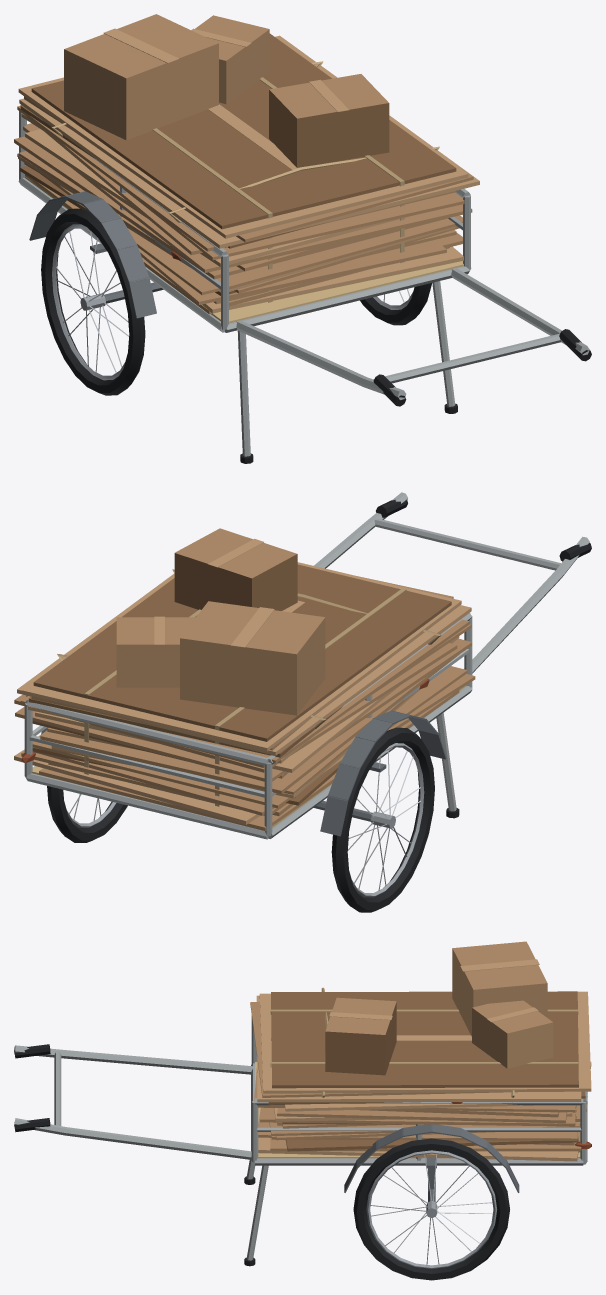
Rendered from SC_Home_Scrap_Handcart.gltf.
The picture shows the model from 3 angles, top to bottom: view 1: azimuth 30°, elevation 25°; view 2: azimuth 150°, elevation 25°; view 3: azimuth 270°, elevation 25°; orthographic projection. The views are drawn at different scales.
Parts seen in each view (by area): view 1: SC_Home_Scrap_Handcart; view 2: SC_Home_Scrap_Handcart; view 3: SC_Home_Scrap_Handcart.
Boxes of the visible parts, left/top/right/bottom form: SC_Home_Scrap_Handcart: left=14, top=14, right=591, bottom=463; SC_Home_Scrap_Handcart: left=14, top=492, right=591, bottom=912; SC_Home_Scrap_Handcart: left=14, top=941, right=591, bottom=1280.
Size of the model in its own units: 1.15 by 1.03 by 2.29.
2 materials, 2 textured.
